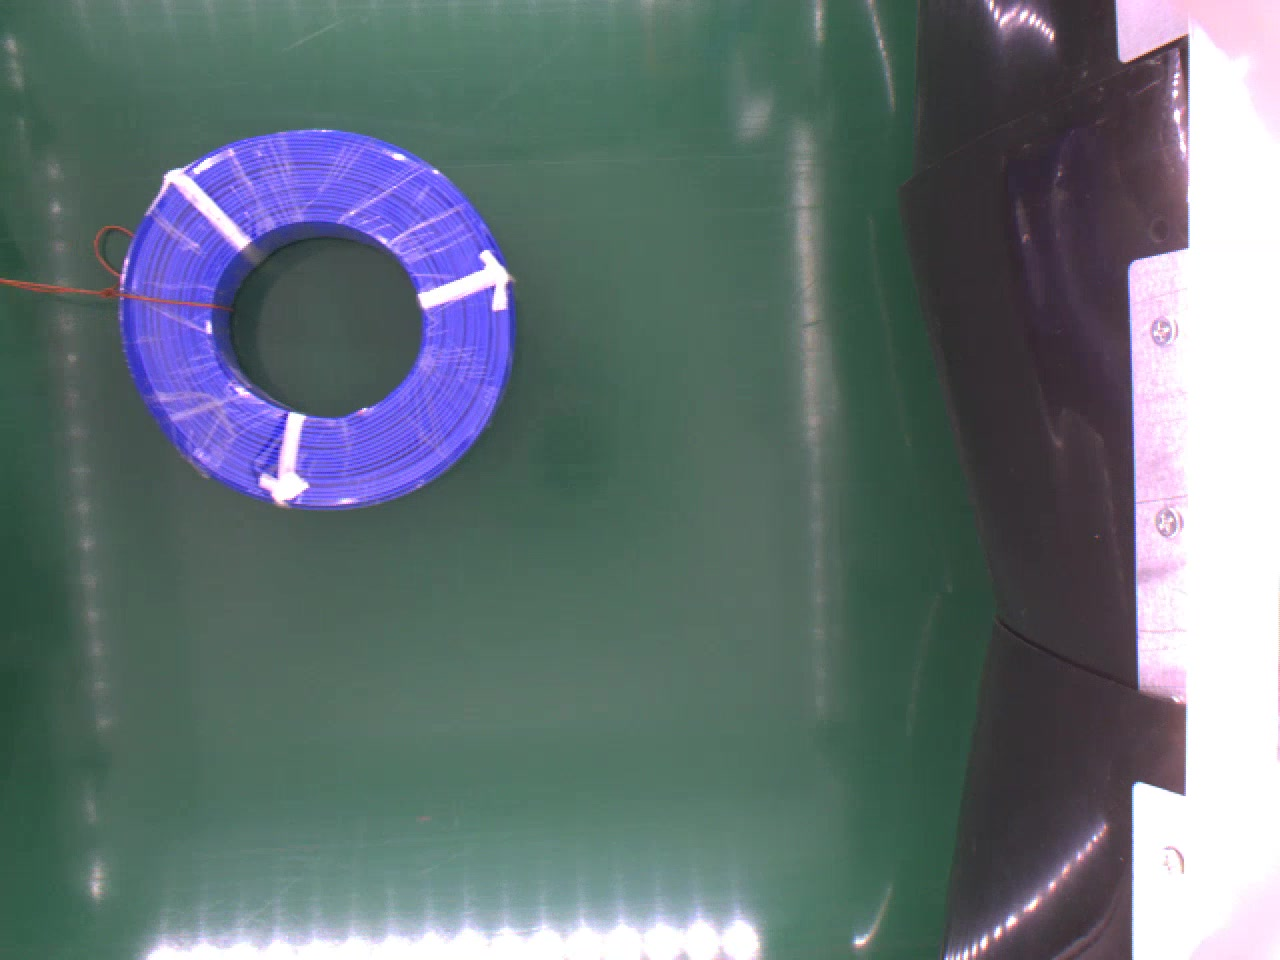blue: (117, 127, 512, 507)
